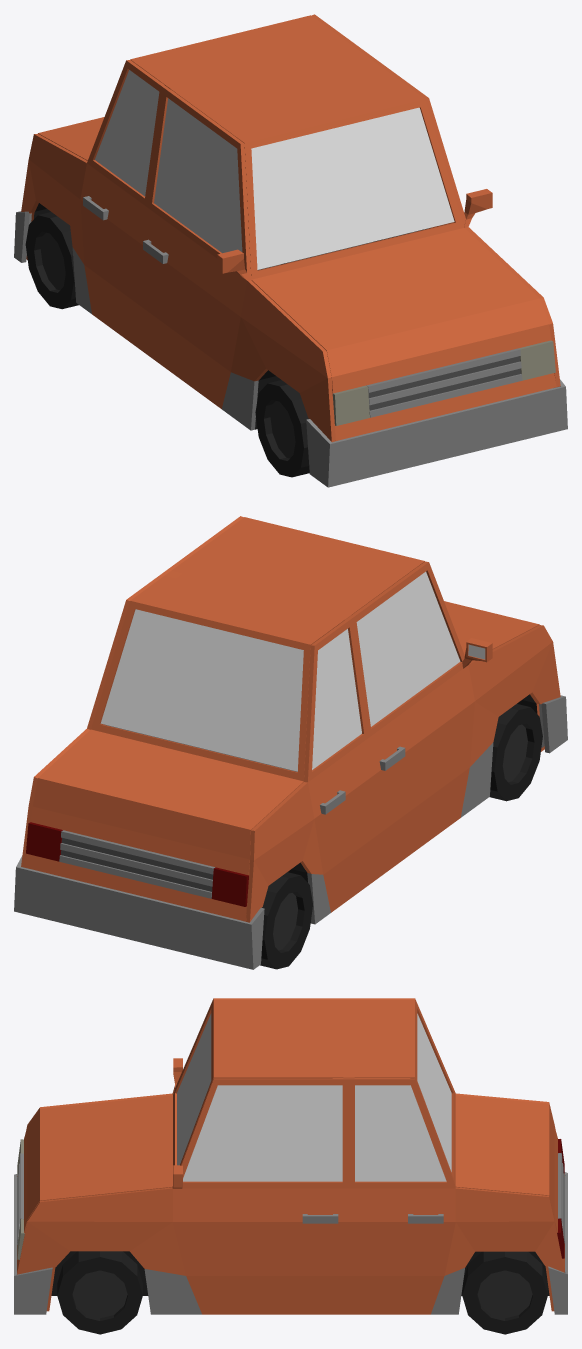
Rendered from TestCar.fbx.
The picture shows the model from 3 angles, top to bottom: view 1: azimuth 30°, elevation 25°; view 2: azimuth 150°, elevation 25°; view 3: azimuth 270°, elevation 25°; orthographic projection. The views are drawn at different scales.
Visible parts, largest first — view 1: Chassis, Hood, Window_Front, Door_Right_Front, Bumper_Front, Door_Right_Back, Window_Right_Front, Fender_Right_Front, Grill_Front, Window_Right_Back, Fender_Right_Back, Wheel_Right_Front (+11 smaller); view 2: Chassis, Window_Back, Boot, Door_Right_Front, Bumber_Back, Door_Right_Back, Window_Right_Front, Fender_Right_Front, Fender_Right_Back, Grill_Back, Window_Right_Back, Wheel_Right_Front (+10 smaller); view 3: Door_Left_Front, Chassis, Door_Left_Back, Window_Left_Front, Hood, Fender_Left_Front, Boot, Window_Left_Back, Fender_Left_Back, Wheel_Left_Front, Wheel_Left_Back, Window_Back (+7 smaller).
Part boxes in pixels (x1,y1,x2,y2): Chassis: [26, 15, 556, 442]; Hood: [251, 228, 548, 376]; Window_Front: [251, 107, 454, 269]; Door_Right_Front: [139, 87, 251, 408]; Bumper_Front: [306, 379, 567, 487]; Door_Right_Back: [80, 60, 166, 349]; Window_Right_Front: [154, 98, 242, 253]; Fender_Right_Front: [231, 280, 335, 441]; Grill_Front: [366, 348, 522, 417]; Window_Right_Back: [95, 70, 159, 196]; Fender_Right_Back: [21, 133, 87, 264]; Wheel_Right_Front: [255, 380, 309, 477]; Chassis: [25, 517, 544, 922]; Window_Back: [100, 609, 303, 771]; Boot: [32, 729, 303, 859]; Door_Right_Front: [348, 561, 474, 876]; Bumber_Back: [14, 856, 264, 969]; Door_Right_Back: [304, 618, 379, 912]; Window_Right_Front: [356, 571, 460, 726]; Fender_Right_Front: [468, 625, 560, 766]; Fender_Right_Back: [246, 782, 322, 922]; Grill_Back: [59, 830, 215, 898]; Window_Right_Back: [312, 629, 361, 769]; Wheel_Right_Front: [490, 704, 542, 801]; Door_Left_Front: [173, 1078, 348, 1314]; Chassis: [17, 1000, 564, 1311]; Door_Left_Back: [344, 1078, 455, 1314]; Window_Left_Front: [183, 1085, 342, 1181]; Hood: [27, 1095, 172, 1219]; Fender_Left_Front: [17, 1187, 185, 1275]; Boot: [455, 1095, 554, 1219]; Window_Left_Back: [355, 1085, 446, 1181]; Fender_Left_Back: [444, 1187, 564, 1275]; Wheel_Left_Front: [57, 1251, 142, 1334]; Wheel_Left_Back: [462, 1251, 547, 1334]; Window_Back: [417, 1013, 451, 1171].
Bounding box in the file's own units: 2.67 × 2.63 × 5.4.
